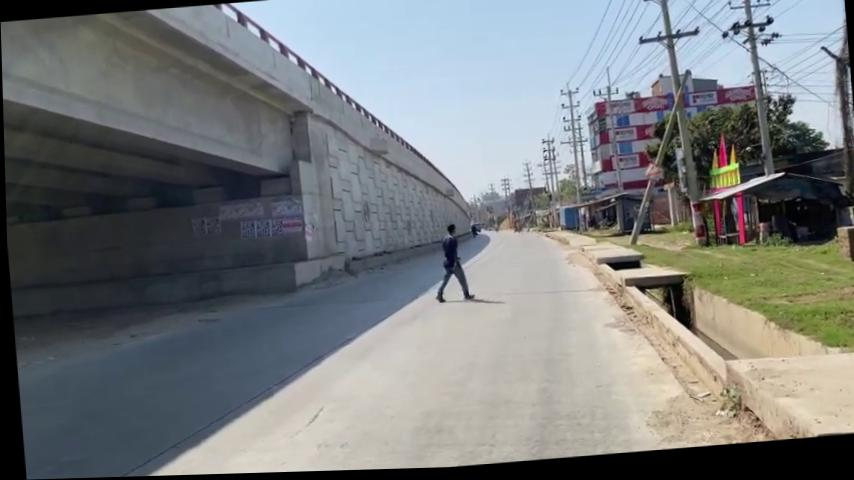Car: (602, 256, 854, 457)
Curb: (467, 224, 481, 241)
Fallen-tree: (0, 0, 480, 317)
Fence: (427, 224, 472, 305)
Garbage: (636, 0, 712, 252), (727, 0, 786, 190)
